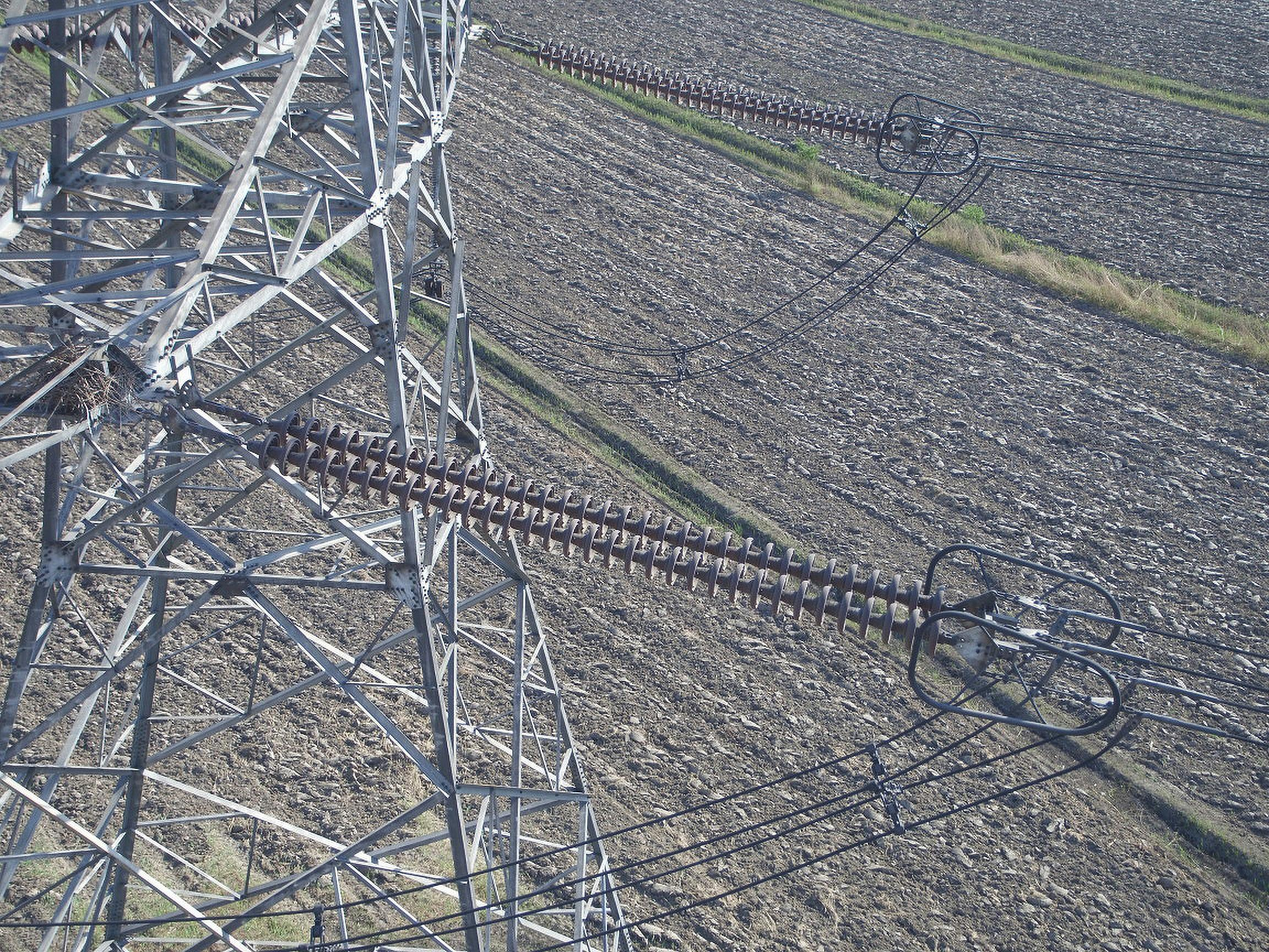insulator: (251, 407, 950, 661), (534, 32, 899, 149), (7, 7, 262, 56)
